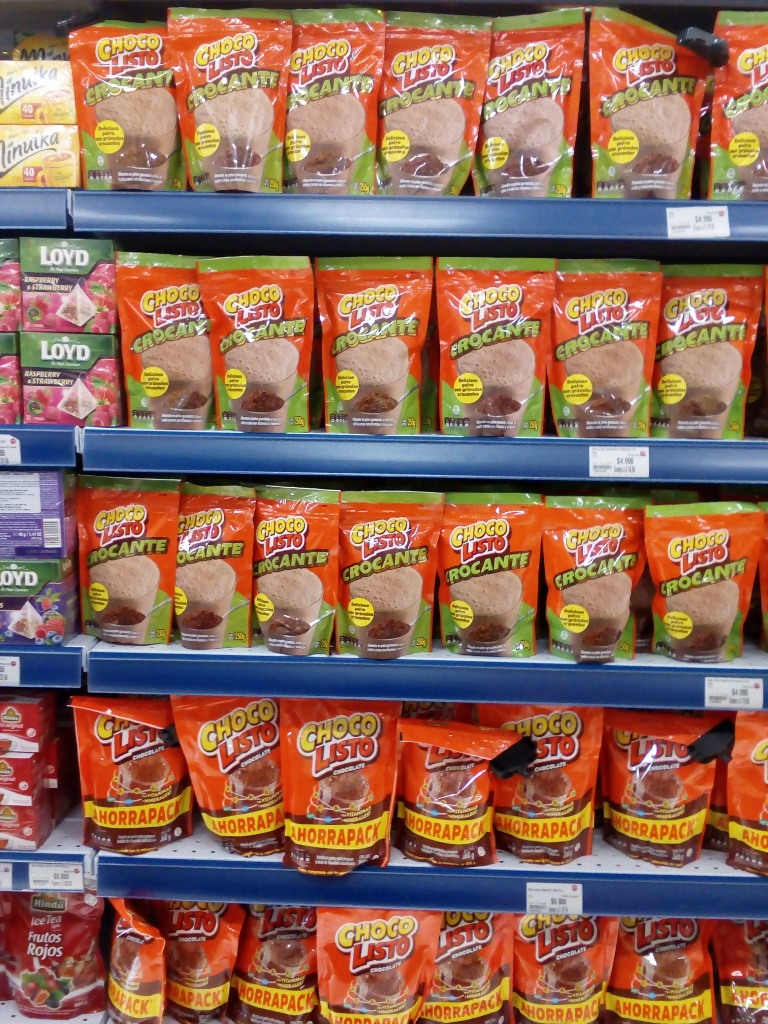COL0170102DYP25000: (68, 21, 198, 190)
COL0170103DYP36000: (71, 695, 201, 855)
